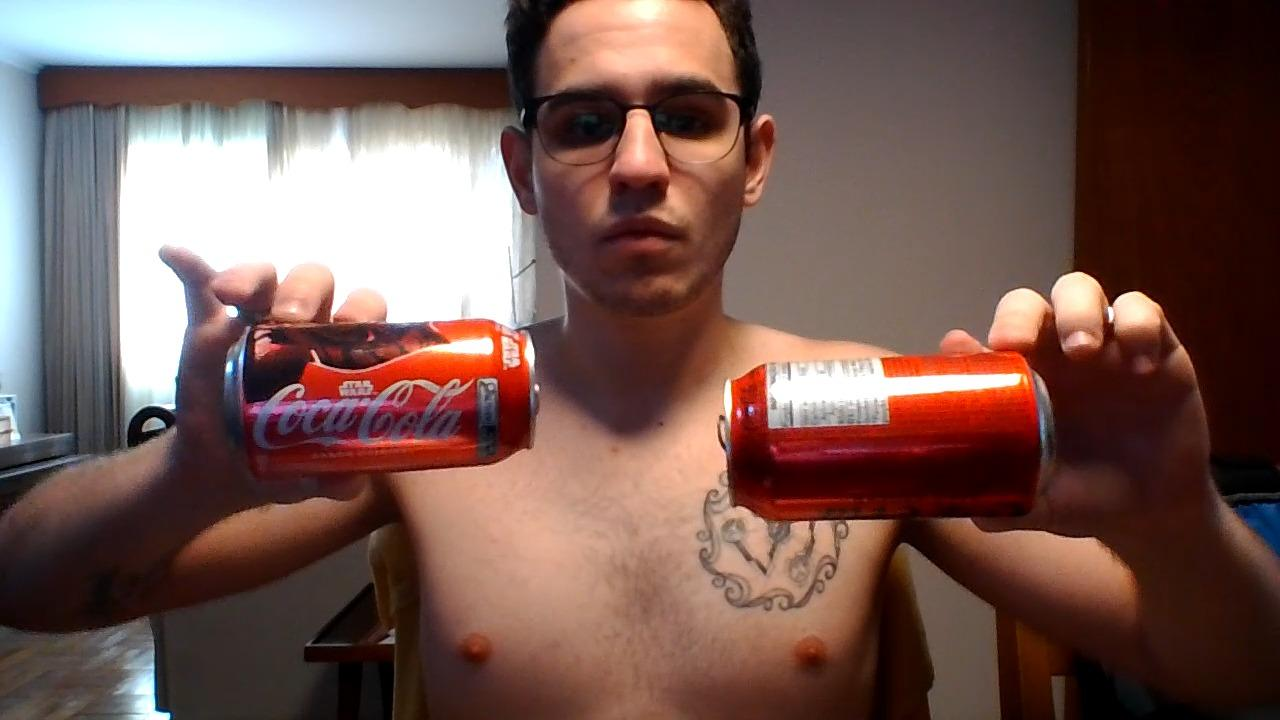coke: (717, 351, 1060, 521), (222, 318, 536, 479)
